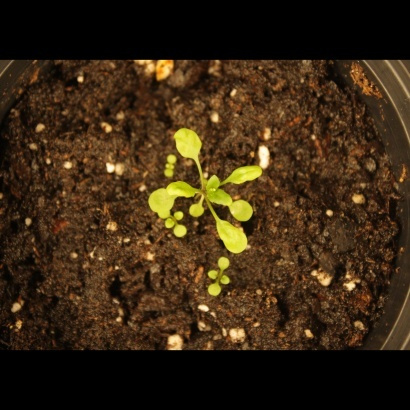leaf: (168, 124, 211, 165), (218, 214, 250, 258), (146, 184, 179, 220), (224, 162, 266, 187), (166, 176, 201, 202), (208, 189, 238, 213), (231, 197, 257, 224), (205, 171, 228, 194), (186, 200, 209, 223), (172, 224, 195, 247), (211, 249, 234, 272), (205, 279, 228, 302)
